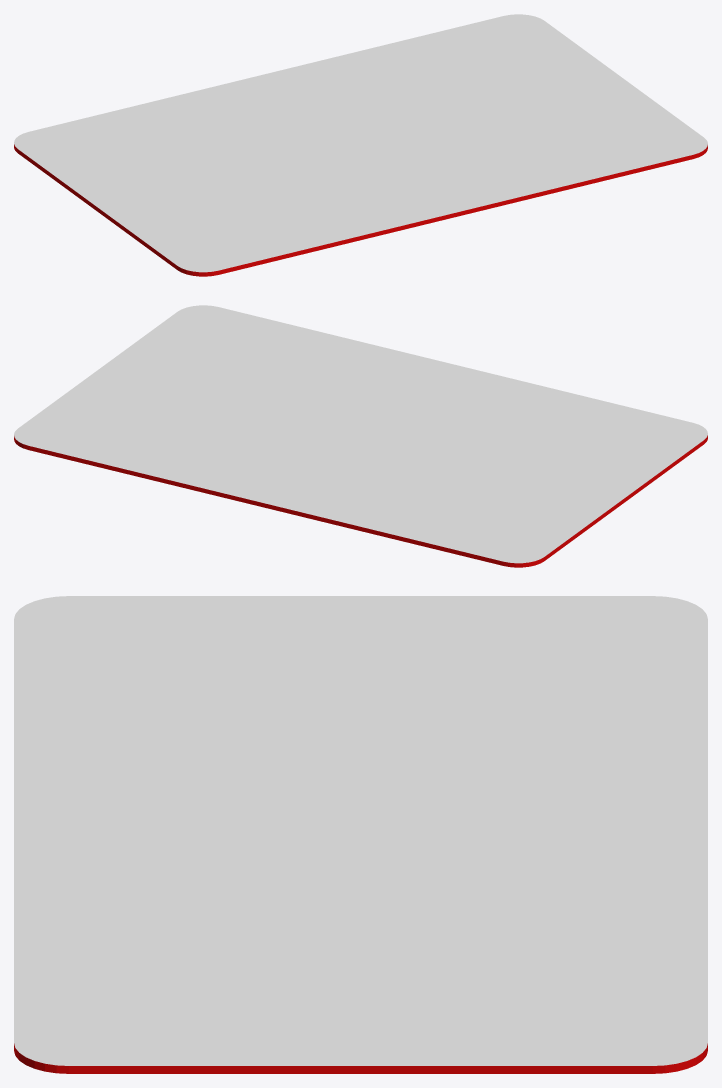
Rendered from card.glb.
3 renders of one model, top to bottom at view 1: azimuth 30°, elevation 25°; view 2: azimuth 150°, elevation 25°; view 3: azimuth 270°, elevation 25°, orthographic. The views are drawn at different scales.
Parts seen in each view (by area): view 1: Card; view 2: Card; view 3: Card.
Boxes of the visible parts, box(x1,y1,x2,y2) form: Card: box(14, 14, 707, 276); Card: box(14, 305, 707, 567); Card: box(14, 596, 707, 1073).
Size of the model in its own units: 0.173 by 0.00136 by 0.108.
